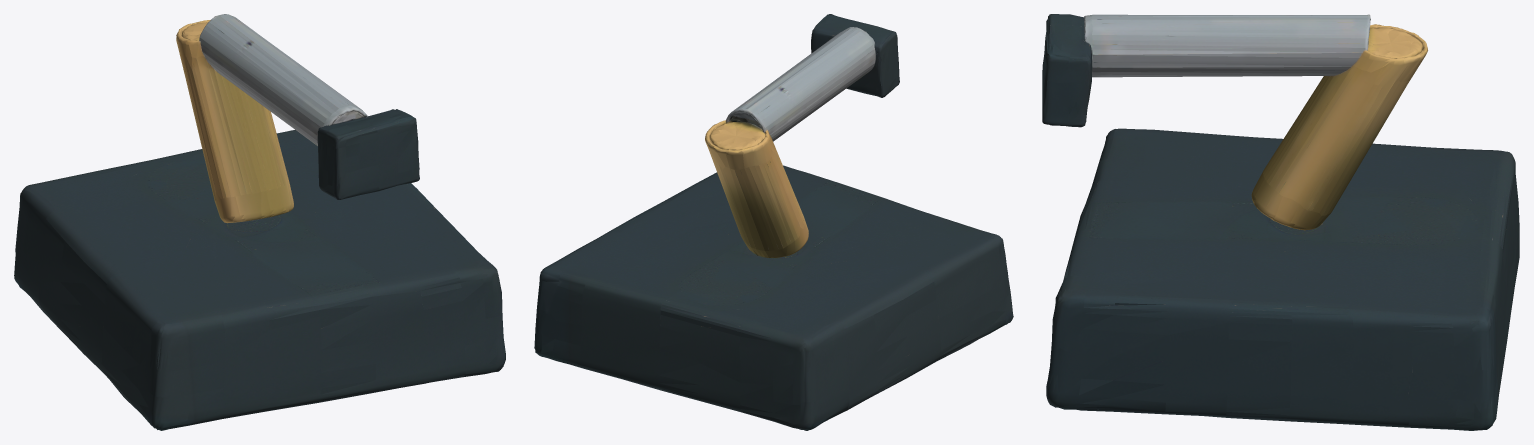
File: factory.glb
The picture shows the model from 3 angles, left to right: view 1: azimuth 30°, elevation 25°; view 2: azimuth 150°, elevation 25°; view 3: azimuth 270°, elevation 25°; orthographic projection. The views are drawn at different scales.
Size of the model in its own units: 0.998 by 0.7383 by 1.
1 material, 1 textured.
